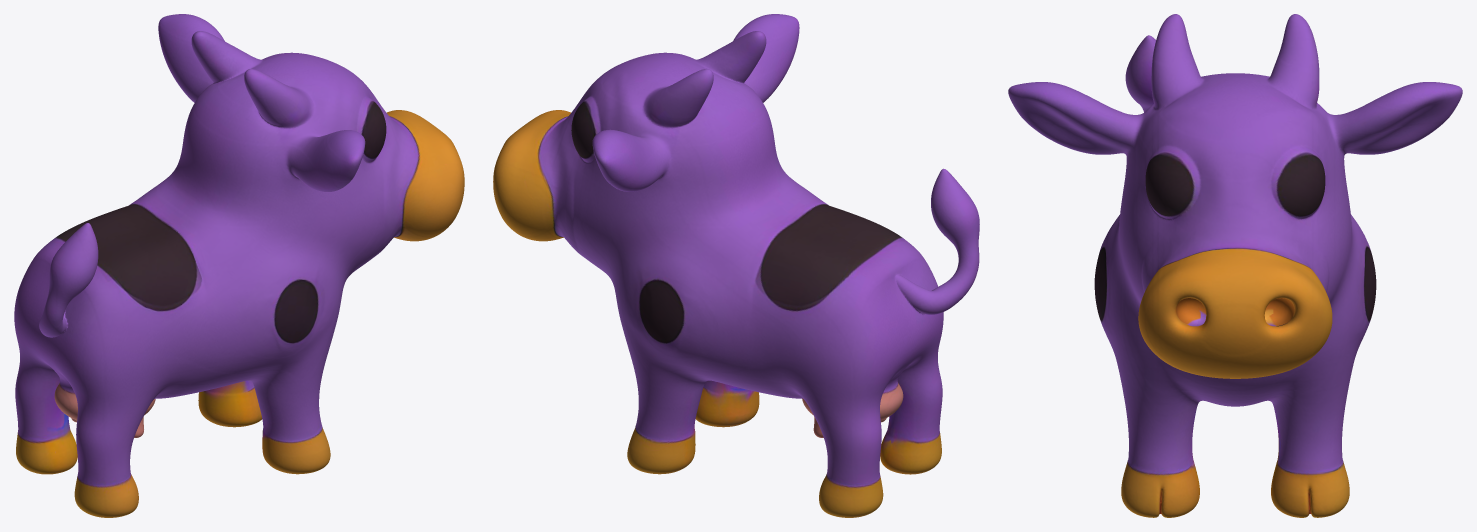
Rendered from COW_GALACTIC_optimized.glb.
The picture shows the model from 3 angles, left to right: view 1: azimuth 30°, elevation 25°; view 2: azimuth 150°, elevation 25°; view 3: azimuth 270°, elevation 25°; orthographic projection. The views are drawn at different scales.
Parts seen in each view (by area): view 1: tripo_node_aab080c2-327d-4a6b-8a90-6c2ddea9d612; view 2: tripo_node_aab080c2-327d-4a6b-8a90-6c2ddea9d612; view 3: tripo_node_aab080c2-327d-4a6b-8a90-6c2ddea9d612.
Boxes of the visible parts, left/top/right/bottom form: tripo_node_aab080c2-327d-4a6b-8a90-6c2ddea9d612: left=14, top=14, right=464, bottom=517; tripo_node_aab080c2-327d-4a6b-8a90-6c2ddea9d612: left=493, top=14, right=979, bottom=517; tripo_node_aab080c2-327d-4a6b-8a90-6c2ddea9d612: left=1008, top=14, right=1462, bottom=517.
Bounding box in the file's own units: 1 × 0.8854 × 0.7718.
1 material, 1 textured.
